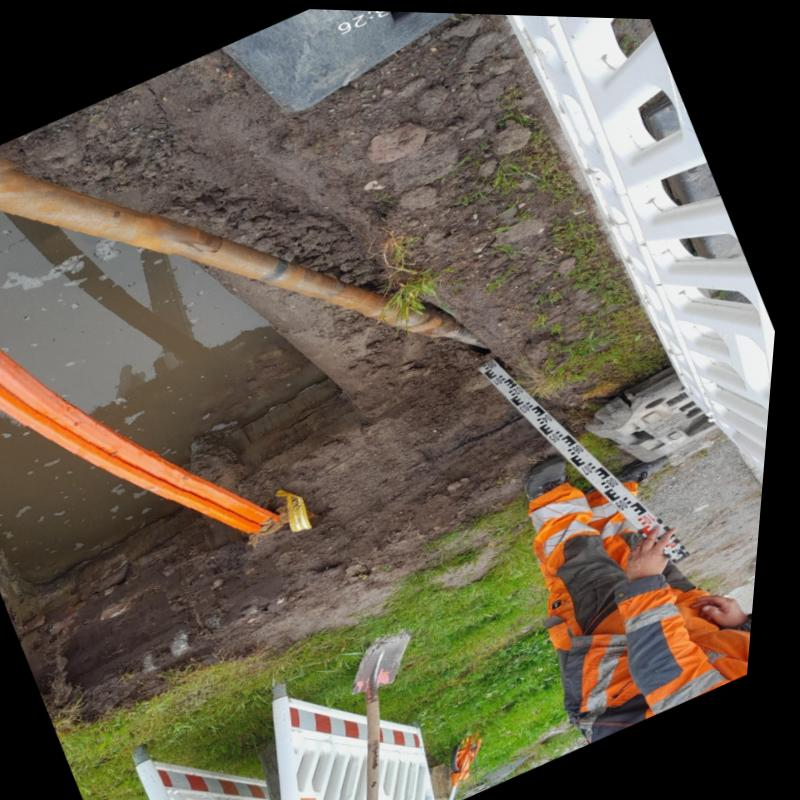Orang-Speednetrohrchen: (0, 343, 285, 530)
